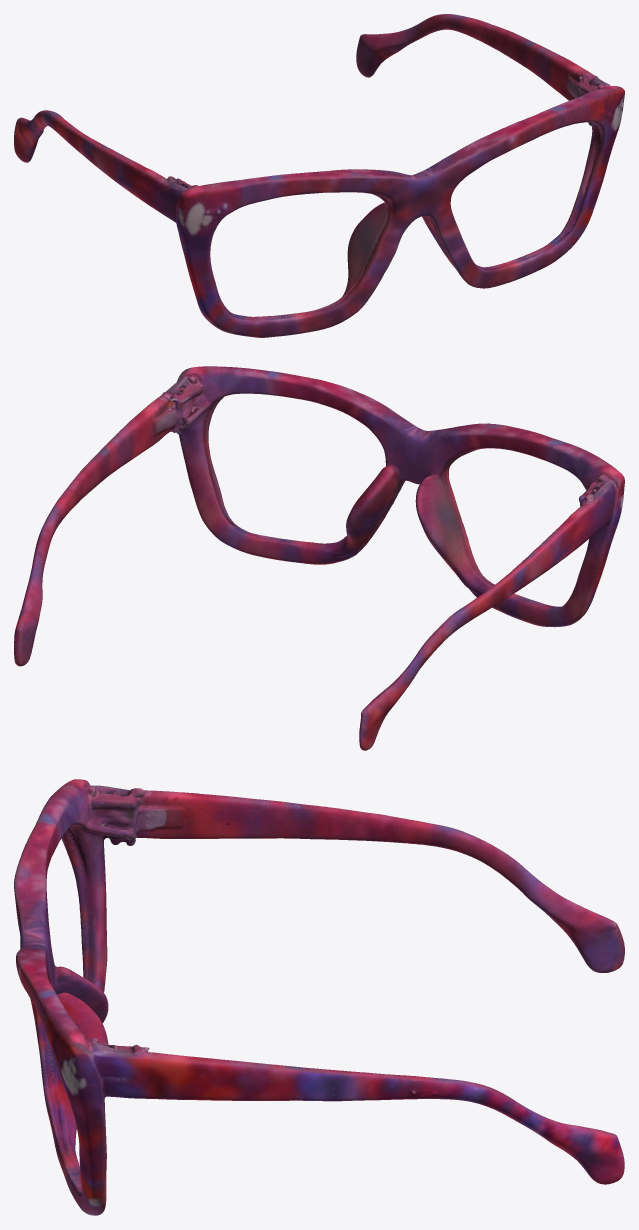
File: Meshy_AI_Purple_Cat_Eye_Glasse_0810153235_texture.glb
The picture shows the model from 3 angles, top to bottom: view 1: azimuth 30°, elevation 25°; view 2: azimuth 150°, elevation 25°; view 3: azimuth 270°, elevation 25°; orthographic projection. The views are drawn at different scales.
Bounding box in the file's own units: 2 × 0.7465 × 1.89.
Materials: 1 (1 with a texture image).
